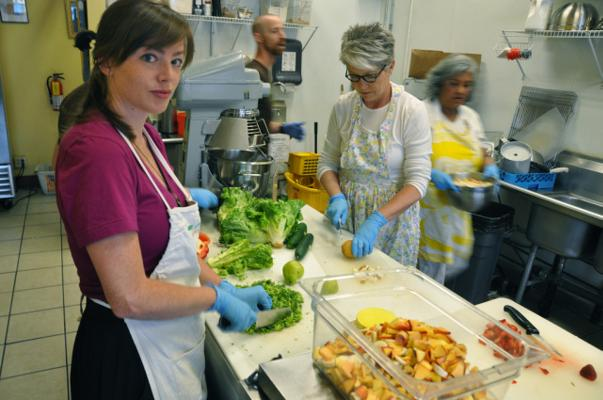person: (56, 4, 269, 400)
